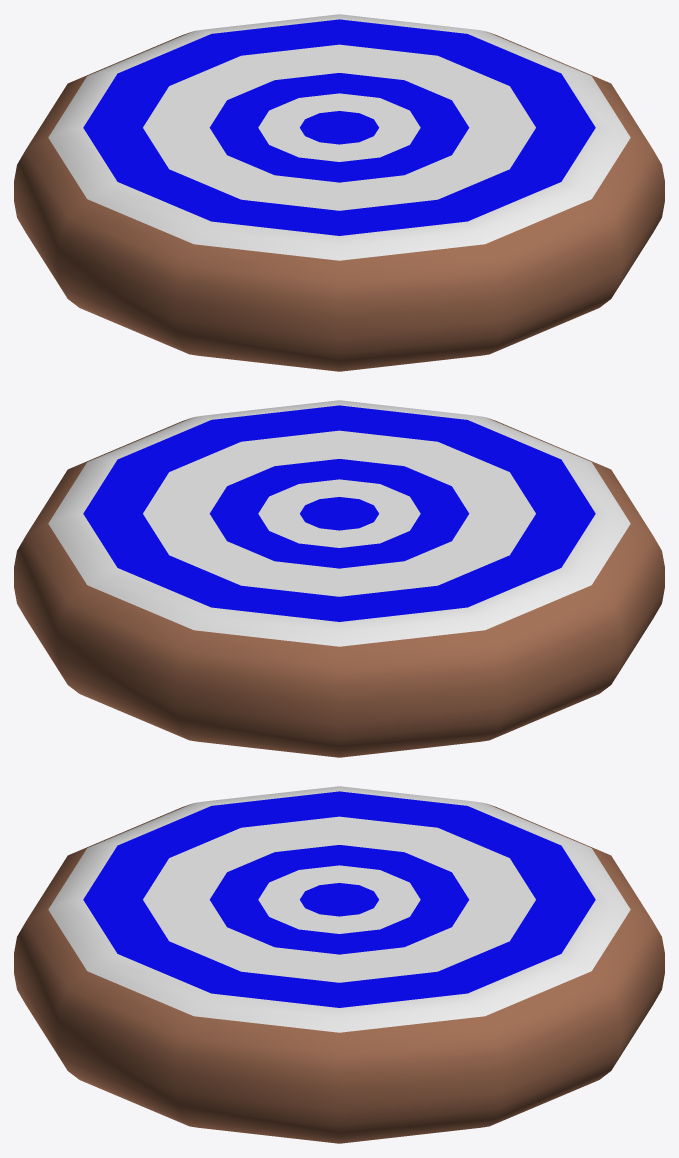
The model's file is bouncing padB.fbx.
3 renders of one model, top to bottom at view 1: azimuth 30°, elevation 25°; view 2: azimuth 150°, elevation 25°; view 3: azimuth 270°, elevation 25°, orthographic.
Visible parts, largest first — view 1: Cylinder; view 2: Cylinder; view 3: Cylinder.
Boxes of the visible parts, x1,y1,x2,y2 form: Cylinder: [14, 14, 664, 371]; Cylinder: [14, 400, 664, 757]; Cylinder: [14, 786, 664, 1143].
Bounding box in the file's own units: 200 × 43.07 × 200.
